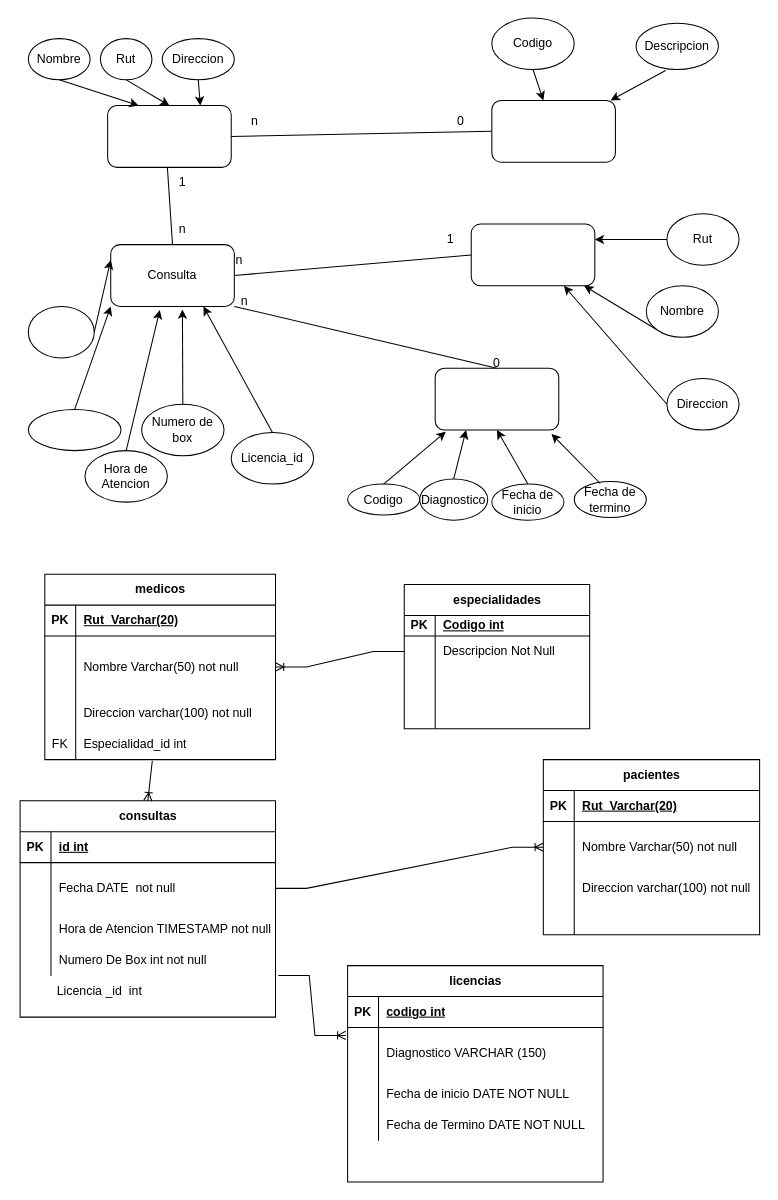
Image size: 778x1200. Some labels were removed from this diagram. Here are the shapes that lost their labels. From the top down, the centre of each, then its label:
At (x=169, y=136): "Medico".
At (x=553, y=130): "Especialidad".
At (x=532, y=254): "Paciente".
At (x=60, y=331): "id".
At (x=496, y=398): "Licencia".
At (x=74, y=429): "Fecha".
